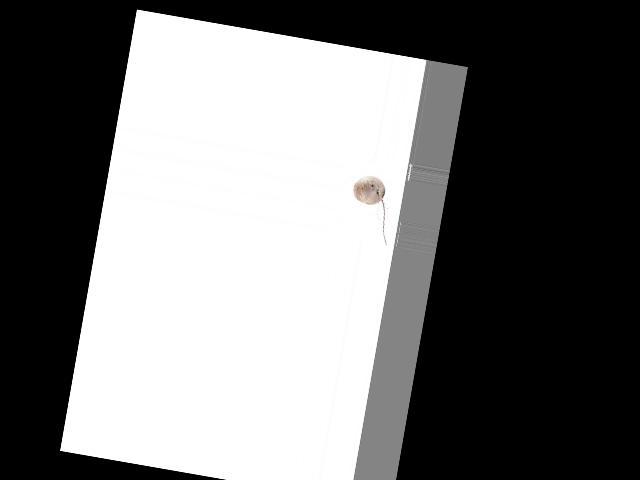beet: (345, 173, 397, 245)
